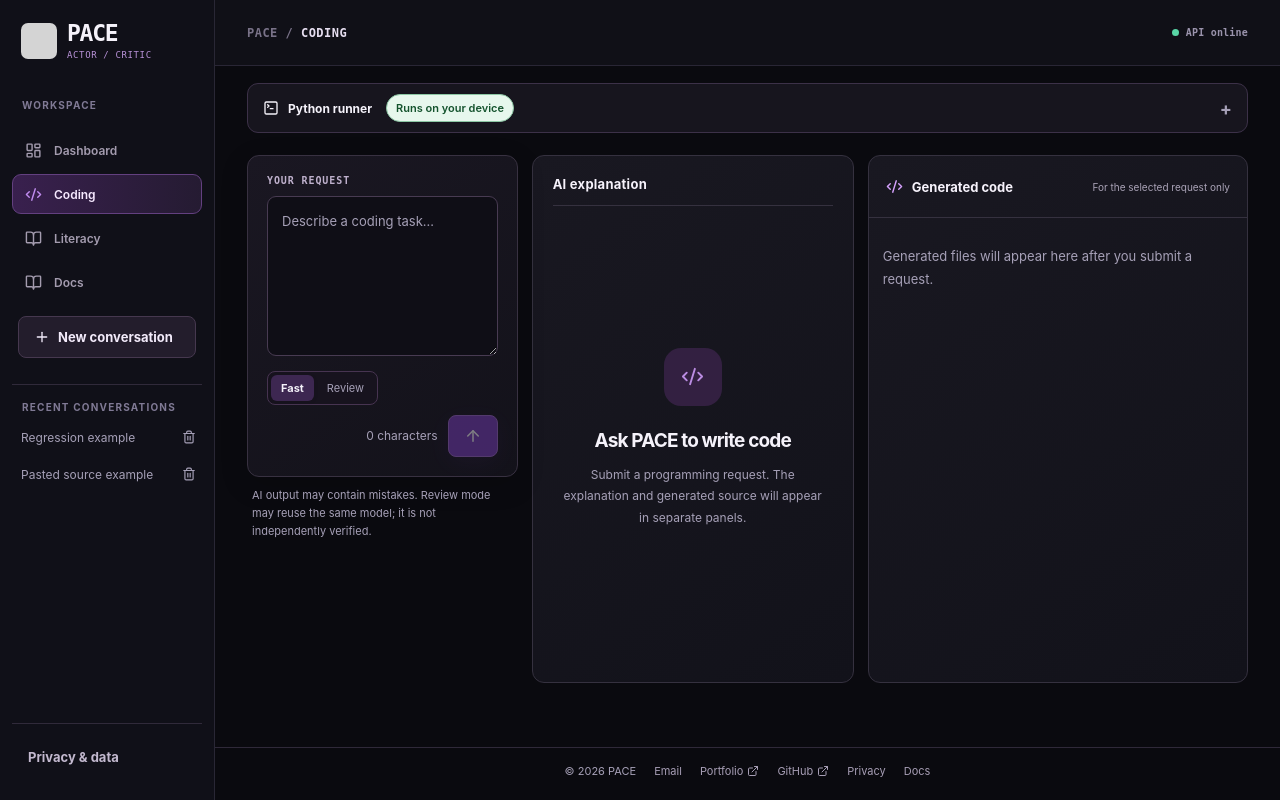
Test: coding view regression › collapses source pasted as input rather than showing duplicate code inline
Click the button "Pasted source example" at (93, 474), box [12, 456, 174, 493]
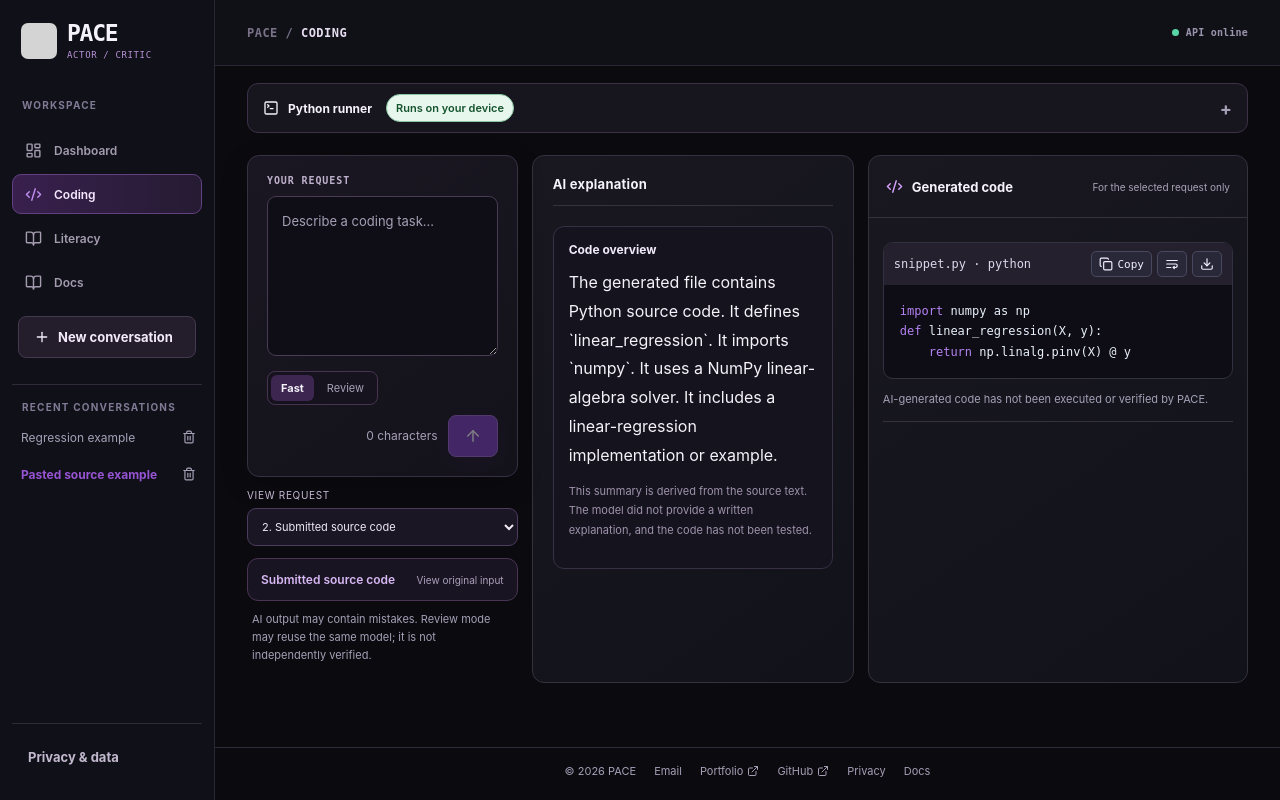
Expected: the dropdown labelled "View request" shows "2. Submitted source code"
Expected: the text "View original input" is shown, [416, 574, 504, 586]
Expected: the element named "Generated code panel" shows "np.linalg.pinv", [972, 345, 1131, 359]
Select "1. Generate linear regression source" in the dropdown labelled "View request" at (382, 527), box [247, 508, 518, 546]
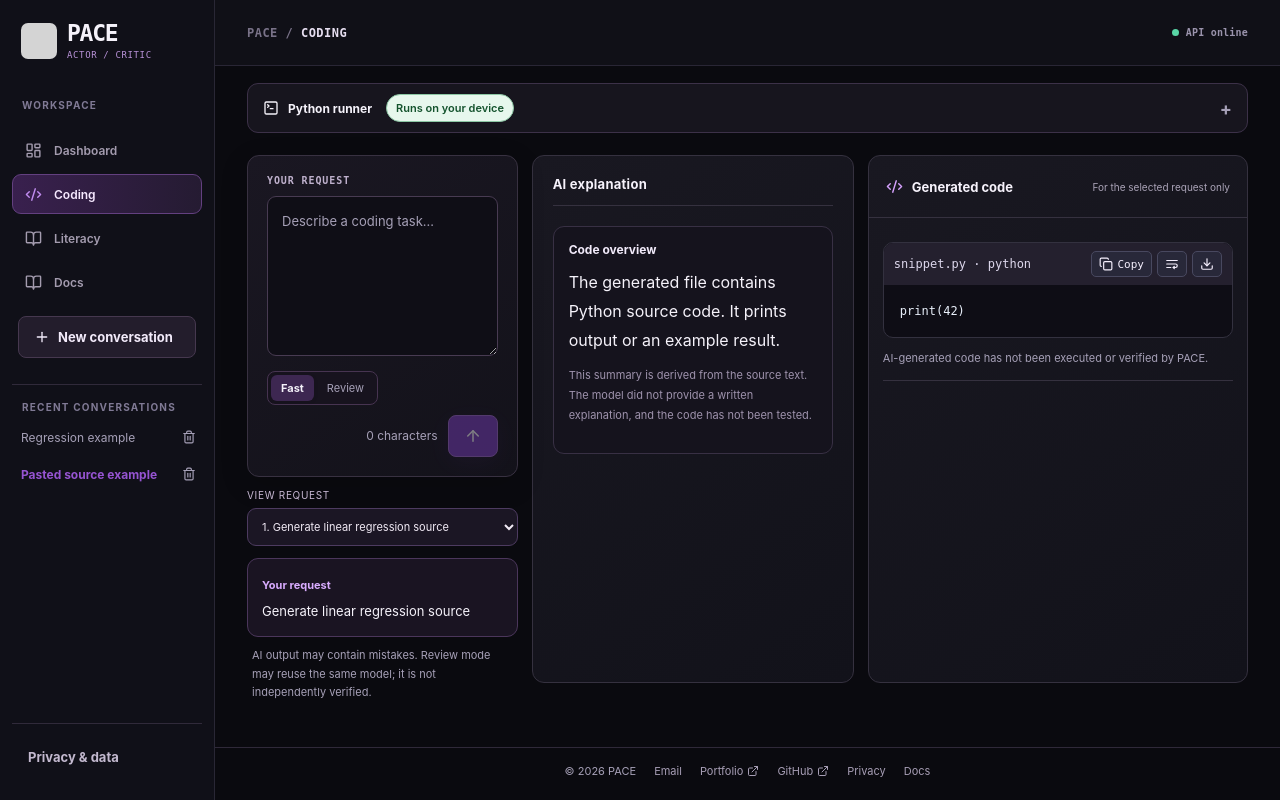
Expected: the text "Generate linear regression source" is shown, [262, 601, 503, 622]
Expected: the heading "View original input" is gone
